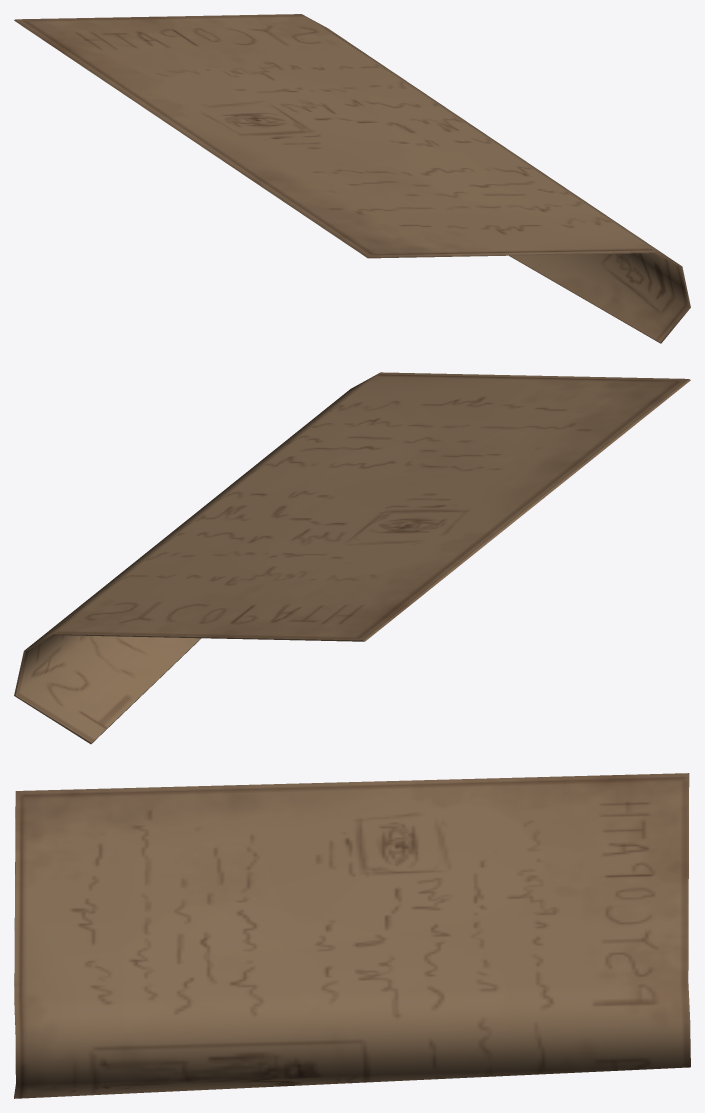
File: Book_Page2_Scaled.fbx
3 renders of one model, top to bottom at view 1: azimuth 30°, elevation 25°; view 2: azimuth 150°, elevation 25°; view 3: azimuth 270°, elevation 25°, orthographic. The views are drawn at different scales.
Visible parts, largest first — view 1: Page; view 2: Page; view 3: Page.
Part boxes in pixels (x1=…): Page: x1=14, y1=14, x2=690, y2=343; Page: x1=14, y1=372, x2=690, y2=744; Page: x1=14, y1=773, x2=690, y2=1098.
Size of the model in its own units: 16.75 by 7.41 by 27.3.
